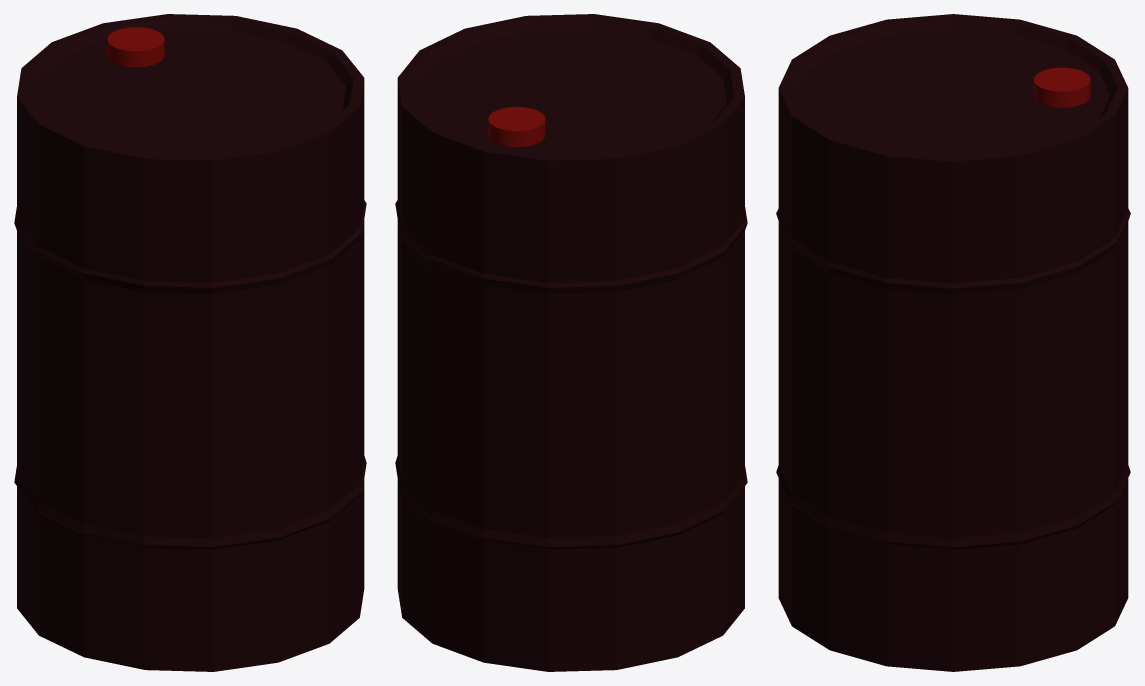
3 views of the same model, side by side, from view 1: azimuth 30°, elevation 25°; view 2: azimuth 150°, elevation 25°; view 3: azimuth 270°, elevation 25° (orthographic).
Parts seen in each view (by area): view 1: Cylinder, Cylinder.001; view 2: Cylinder, Cylinder.001; view 3: Cylinder, Cylinder.001.
Part boxes in pixels (box(x1,y1,x2,y2)): Cylinder: box(14, 14, 366, 671); Cylinder.001: box(107, 27, 164, 67); Cylinder: box(395, 14, 747, 671); Cylinder.001: box(488, 107, 545, 147); Cylinder: box(776, 14, 1130, 671); Cylinder.001: box(1033, 67, 1090, 107).
Size of the model in its own units: 203 by 327 by 203.
